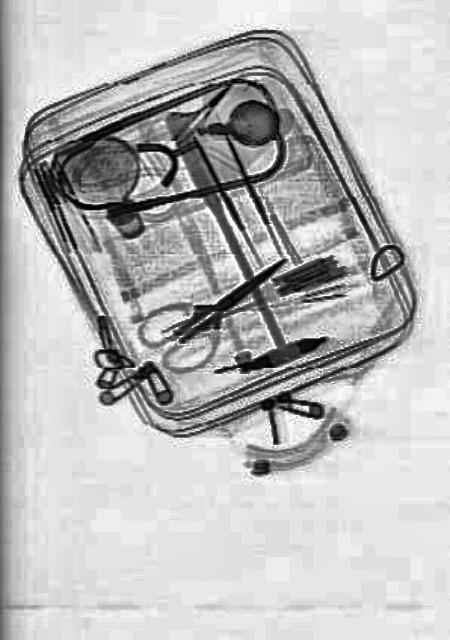Knife: (171, 242, 291, 352)
